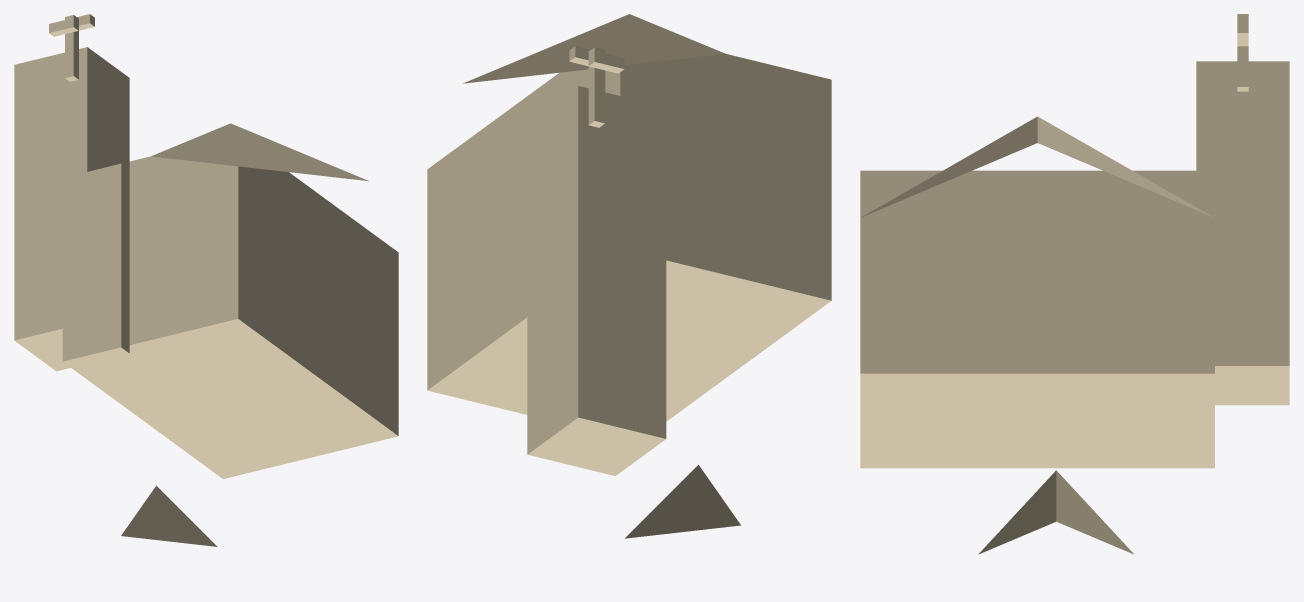
File: kristen-church.glb
3 views of the same model, side by side, from view 1: azimuth 30°, elevation 25°; view 2: azimuth 150°, elevation 25°; view 3: azimuth 270°, elevation 25° (orthographic). The views are drawn at different scales.
Visible parts, largest first — view 1: kristen-church.glb; view 2: kristen-church.glb; view 3: kristen-church.glb.
Part boxes in pixels (bbox=[...]): kristen-church.glb: bbox=[14, 14, 398, 546]; kristen-church.glb: bbox=[427, 14, 831, 538]; kristen-church.glb: bbox=[860, 14, 1289, 554].
Size of the model in its own units: 1.9 by 3.15 by 2.3.
